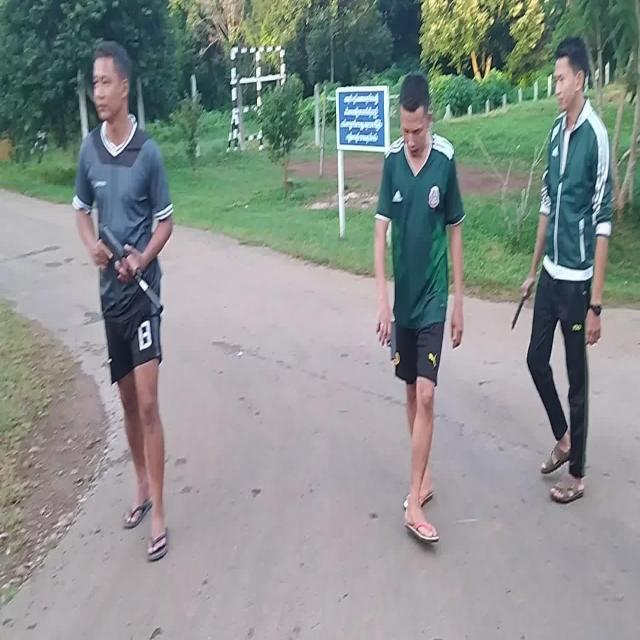gun: (100, 224, 162, 313), (388, 321, 396, 361)
